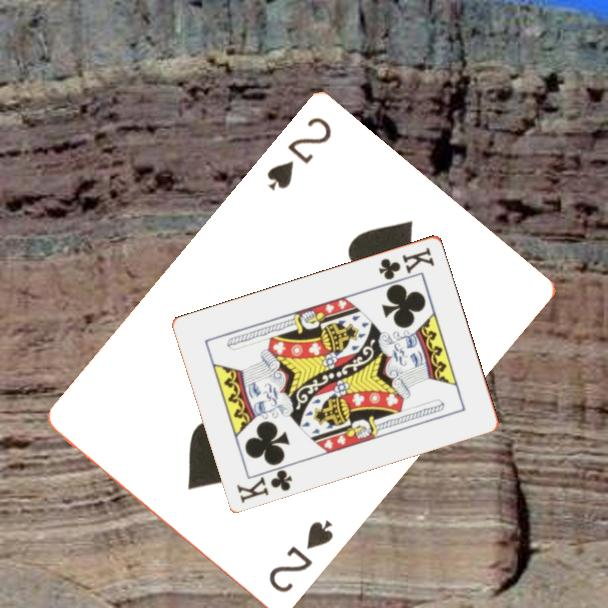c13: (233, 465, 296, 506), (375, 243, 438, 282)
s02: (263, 114, 335, 195), (265, 517, 337, 597)
